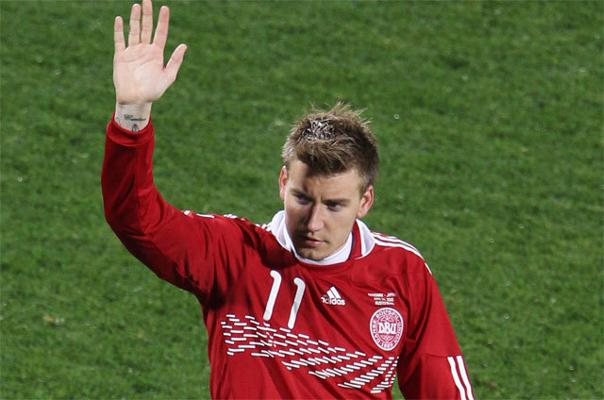person: (103, 1, 477, 400)
